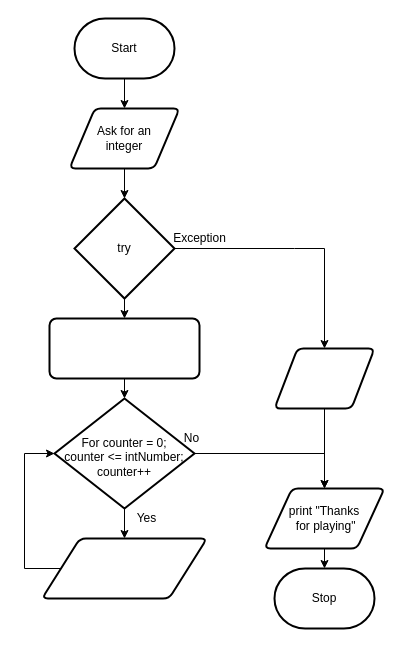
This 403x646 diagram has some shape labels left out. The centre of each missing label's shape, as x and y in pixels:
answer = loop_counter * loop_counter: point 124,568
convert string to int: point 124,348
print "Invalid integer": point 324,378
